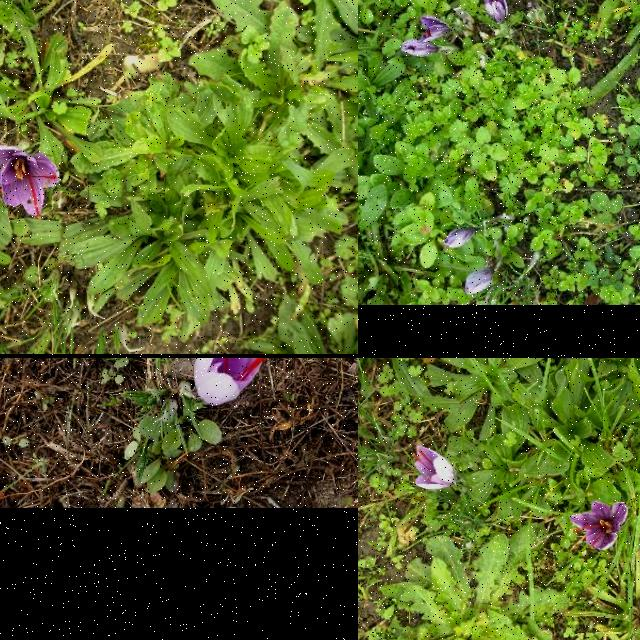flower: (0, 146, 61, 219), (193, 358, 272, 406), (569, 502, 629, 552), (414, 446, 454, 490), (421, 14, 449, 44), (443, 226, 477, 248), (399, 39, 438, 57), (466, 271, 494, 295), (485, 0, 508, 25)
